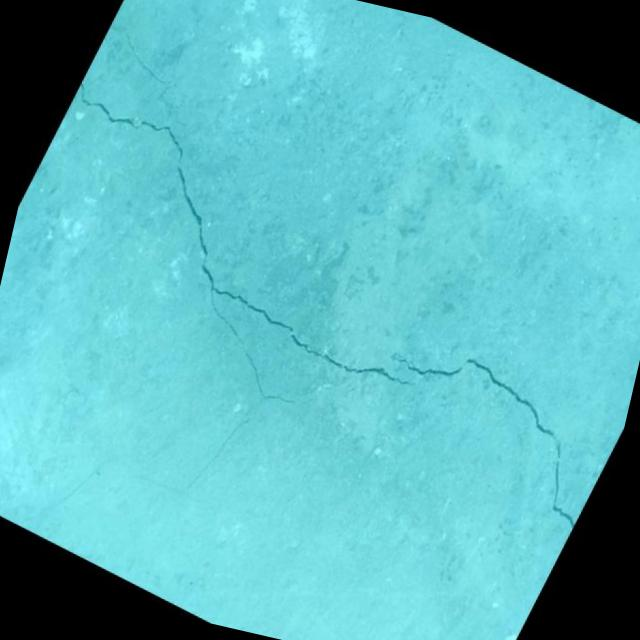crack: (0, 73, 493, 575), (345, 319, 634, 536), (30, 447, 104, 552), (95, 20, 188, 89)
